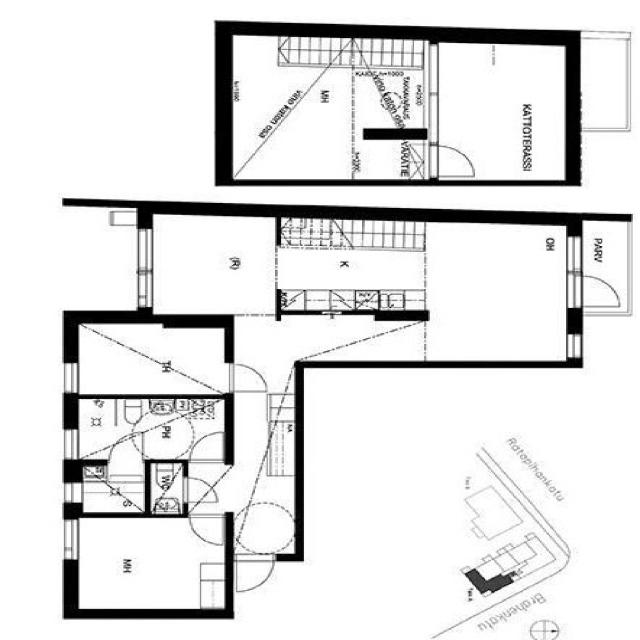door: (432, 42, 572, 182), (152, 465, 212, 511), (566, 270, 626, 310), (422, 141, 482, 180), (233, 556, 277, 594), (186, 512, 230, 546), (224, 360, 268, 394), (187, 432, 229, 467), (179, 476, 220, 506), (105, 437, 147, 465)
window: (133, 222, 158, 308), (419, 42, 445, 104), (59, 517, 82, 565), (511, 568, 555, 593), (264, 243, 286, 292), (132, 267, 157, 310), (562, 233, 587, 275), (57, 359, 83, 396), (59, 426, 81, 461), (61, 479, 82, 508), (566, 331, 584, 360)
zone: (418, 221, 572, 367), (433, 43, 570, 184), (72, 516, 228, 614), (146, 212, 280, 318), (243, 58, 355, 182), (72, 322, 230, 396), (274, 238, 425, 311), (74, 398, 233, 463), (76, 461, 148, 512), (148, 460, 185, 515)
